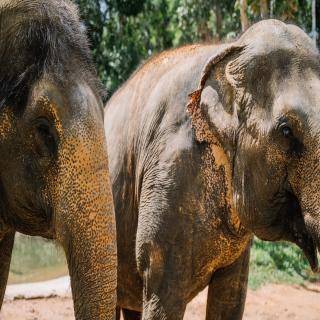Elephant: (104, 7, 320, 320), (1, 0, 138, 320)
